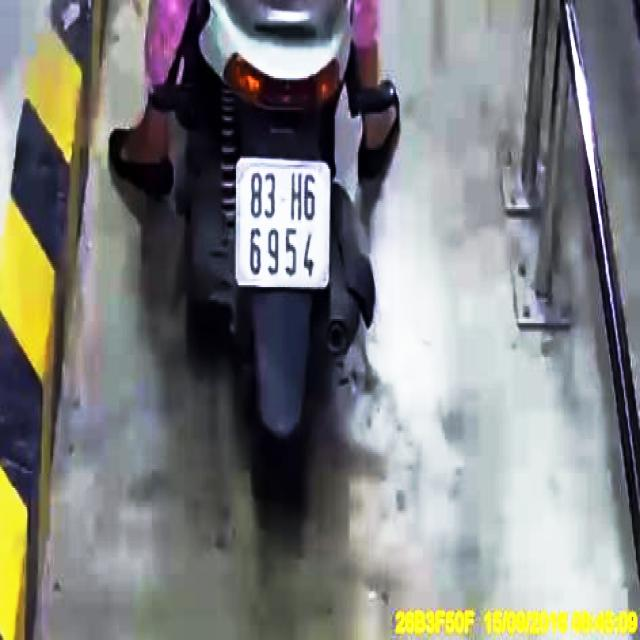license_plate: (239, 163, 332, 288)
